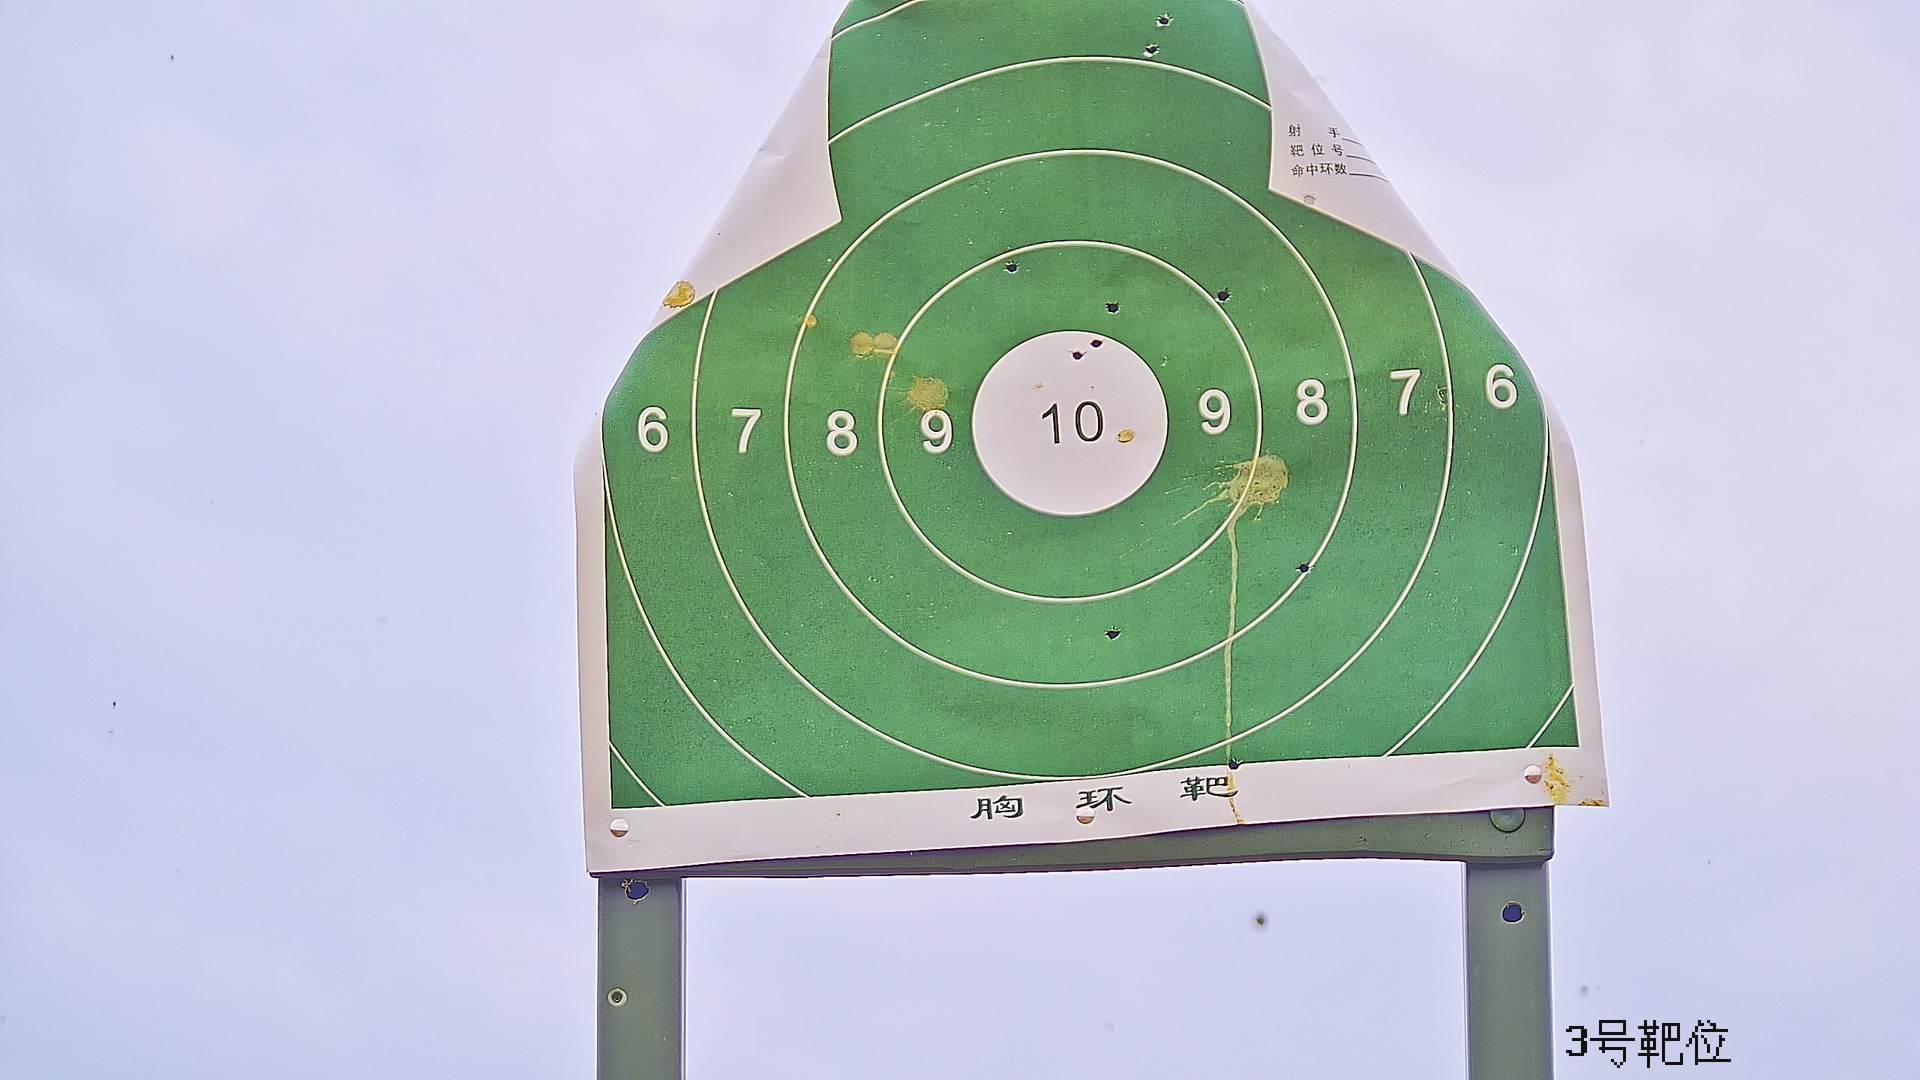hole: (1226, 754, 1244, 769), (1159, 15, 1172, 28), (1108, 299, 1120, 314), (1218, 289, 1230, 303), (1106, 628, 1121, 640), (1299, 560, 1311, 574), (1145, 44, 1156, 55), (1004, 261, 1017, 272), (1072, 349, 1083, 363), (1091, 338, 1102, 348)
kernel: (1067, 419, 1069, 425)
target: (603, 7, 1580, 814)
ten: (971, 324, 1172, 522)
